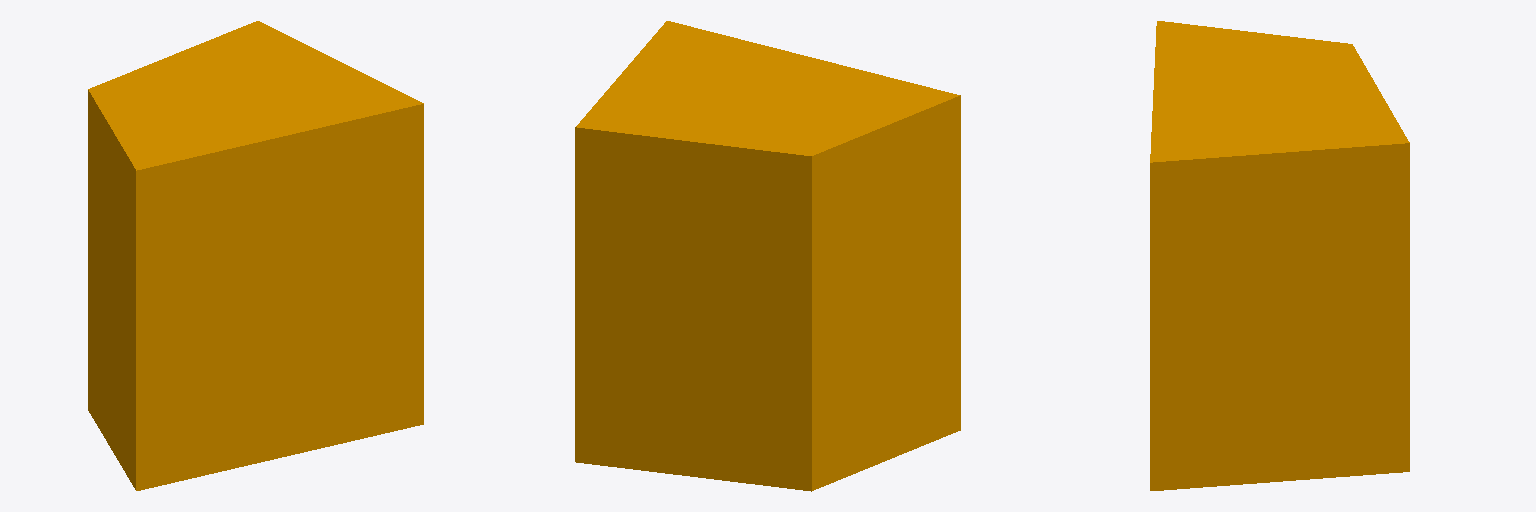
robot.urdf — object:
<?xml version="1.0"?>
<robot name="object">
  <link name="object">
    <visual>
      <origin xyz="0 0 0"/>
      <geometry>
        <mesh filename="meshes/generated/col_070.obj" scale="0.03 0.03 0.03"/>
      </geometry>
    </visual>
    <collision>
      <origin xyz="0 0 0"/>
      <geometry>
        <mesh filename="meshes/generated/col_070.obj" scale="0.03 0.03 0.03"/>
      </geometry>
    </collision>
    <inertial>
      <density value="1000.0"/>
    </inertial>
  </link>
</robot>

--- Render facts (derived) ---
3 views of the same robot in one strip: view 1: azimuth 30°, elevation 25°; view 2: azimuth 150°, elevation 25°; view 3: azimuth 270°, elevation 25° (orthographic).
Robot: object — 1 links, 0 joints (none); root link object; default pose: every joint at zero.
Links seen in each view (by area): view 1: object; view 2: object; view 3: object.
Boxes of the visible links, <box> form: object: <box>88,21,423,490</box>; object: <box>575,21,960,491</box>; object: <box>1150,21,1409,490</box>.
Size in the robot's own frame: 0.0557 by 0.043 by 0.06 metres.
Meshes: 1 distinct files referenced, 1 mesh visuals loaded (1 OBJ).
